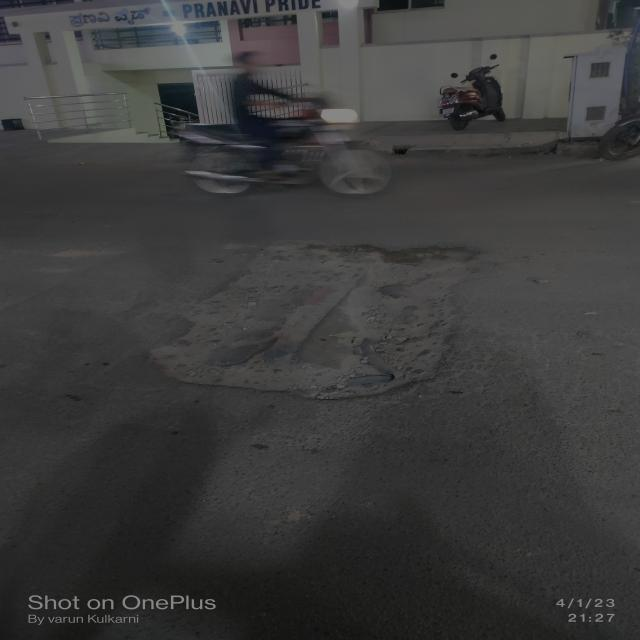potholes: (177, 230, 485, 411)
